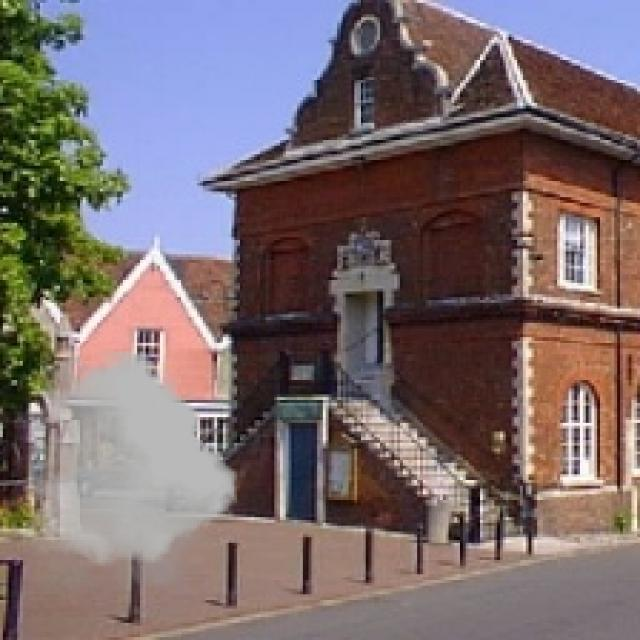smoke: (29, 346, 237, 594)
